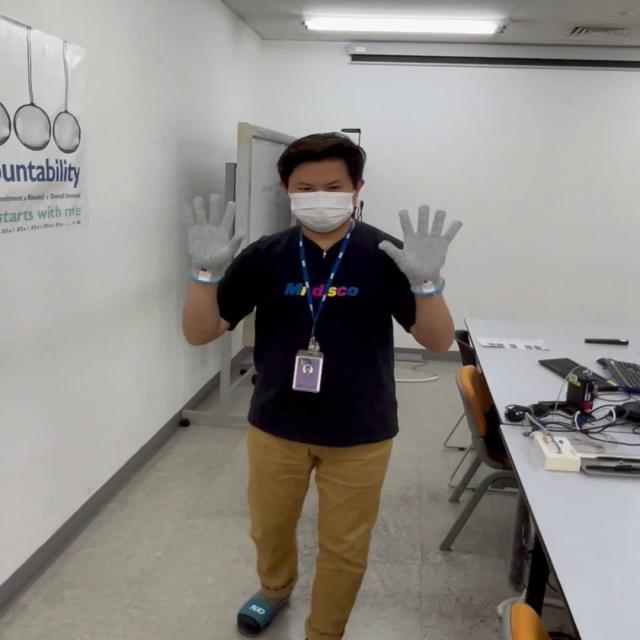gloved_hand: (382, 199, 453, 289), (188, 196, 262, 282)
